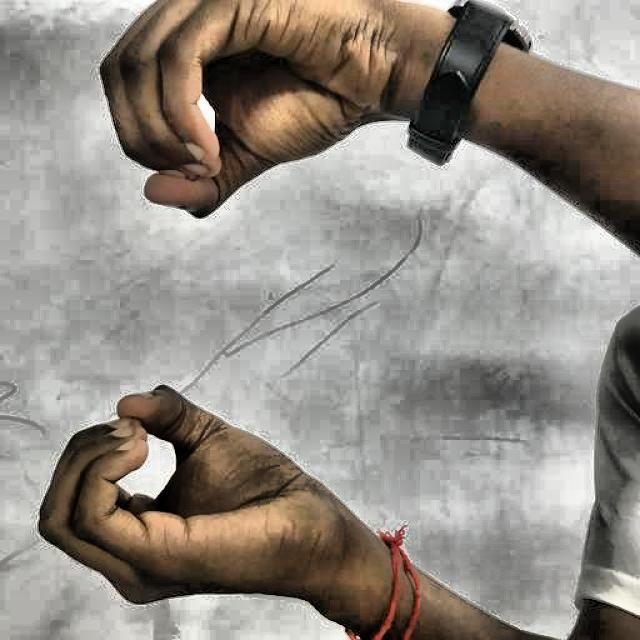Bisharga: (12, 0, 402, 635)
